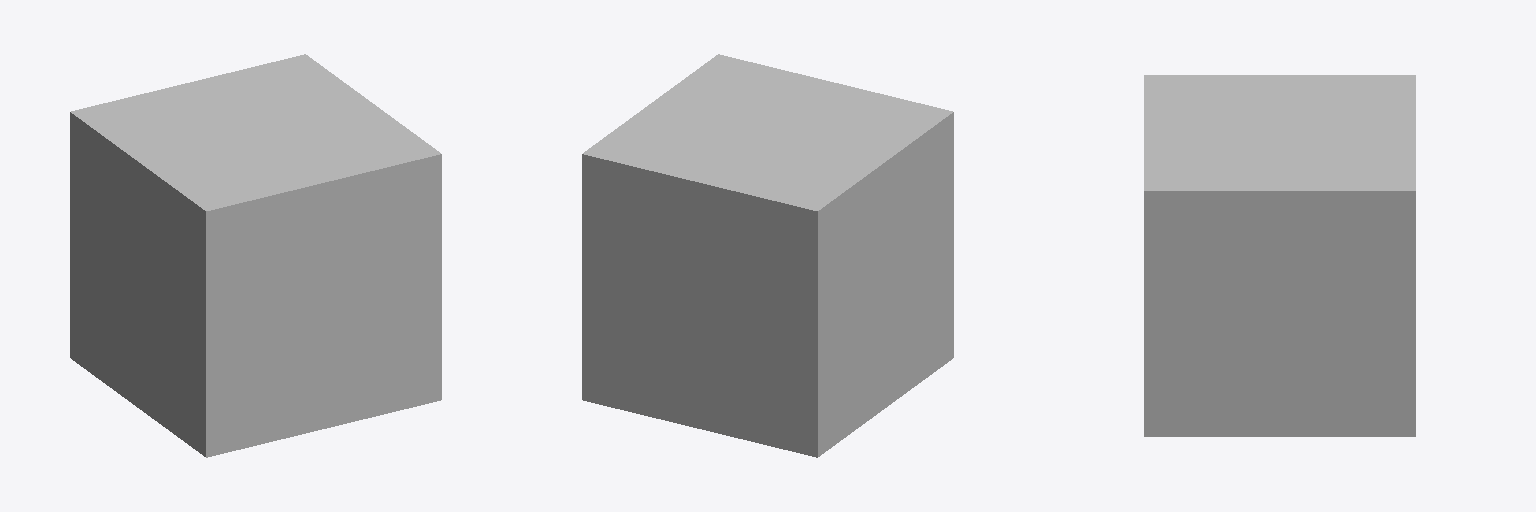
The model's file is crate.obj.
3 renders of one model, left to right at view 1: azimuth 30°, elevation 25°; view 2: azimuth 150°, elevation 25°; view 3: azimuth 270°, elevation 25°, orthographic.
Parts seen in each view (by area): view 1: crate, lid; view 2: crate, lid; view 3: crate, lid.
Boxes of the visible parts, <box> form: crate: <box>70,112,441,457</box>; lid: <box>71,54,440,210</box>; crate: <box>582,112,953,457</box>; lid: <box>583,54,952,210</box>; crate: <box>1144,190,1415,436</box>; lid: <box>1144,75,1415,189</box>.
Size of the model in its own units: 0.75 by 0.7516 by 0.75.